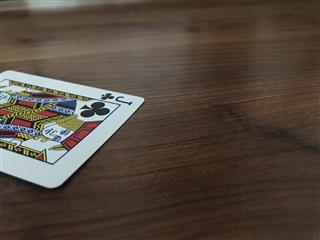JackOfClubs: (1, 69, 144, 189)
